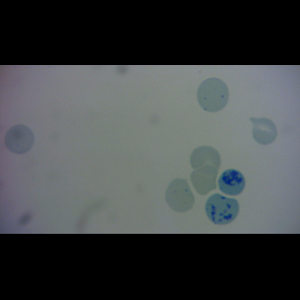aggregate reticulocyte: (204, 193, 241, 226), (217, 169, 246, 196)
erythrocyte: (189, 145, 222, 176), (248, 115, 279, 146), (189, 164, 219, 196)
punctate reticulocyte: (195, 77, 230, 113), (164, 177, 196, 214), (4, 123, 35, 155)
